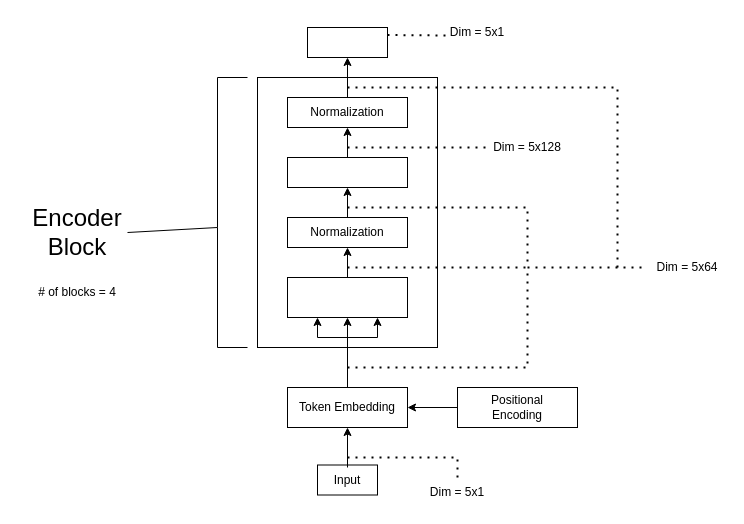
Some shapes in this 744 by 524 pixel diagram are drawn without their labels. Each missing label, with the centre of its shape:
"Feed Forward" goes at (347,172).
"Multi headed attention" goes at (347,297).
"Output" goes at (347,42).
